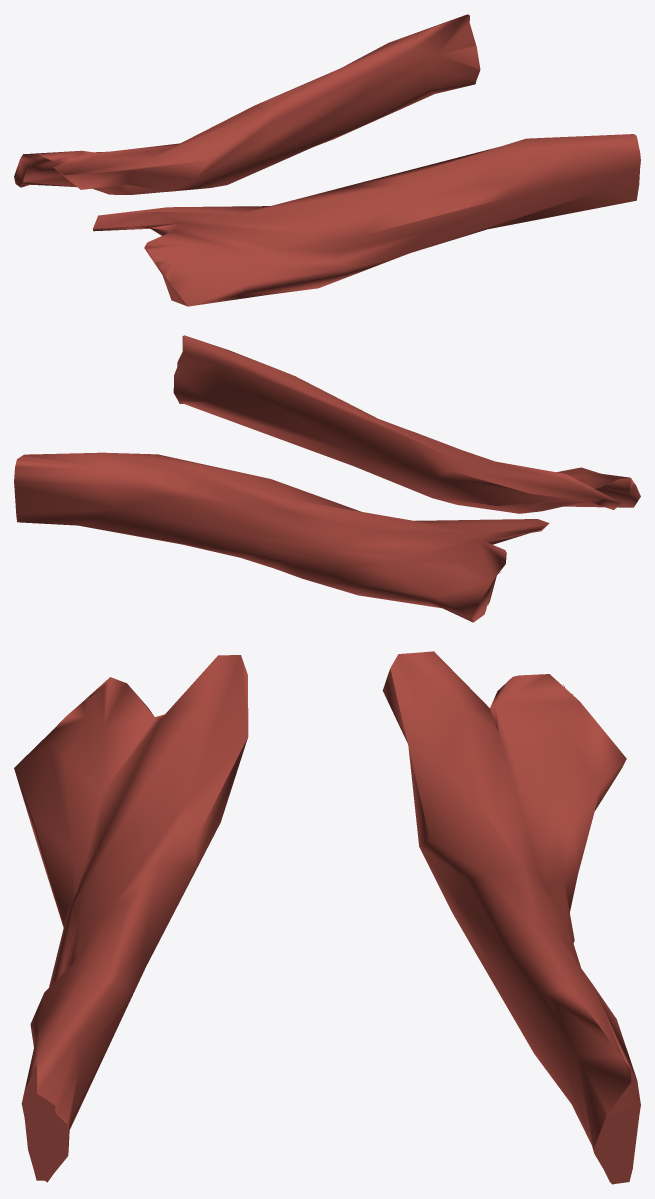
The model's file is MUSCULES.fbx.
The picture shows the model from 3 angles, top to bottom: view 1: azimuth 30°, elevation 25°; view 2: azimuth 150°, elevation 25°; view 3: azimuth 270°, elevation 25°; orthographic projection. The views are drawn at different scales.
Parts seen in each view (by area): view 1: MUSCULES.003; view 2: MUSCULES.003; view 3: MUSCULES.003.
Boxes of the visible parts, x1,y1,x2,y2 form: MUSCULES.003: (14,14,640,306); MUSCULES.003: (14,335,640,622); MUSCULES.003: (14,651,640,1184).
Bounding box in the file's own units: 16.39 × 2.98 × 10.14.
